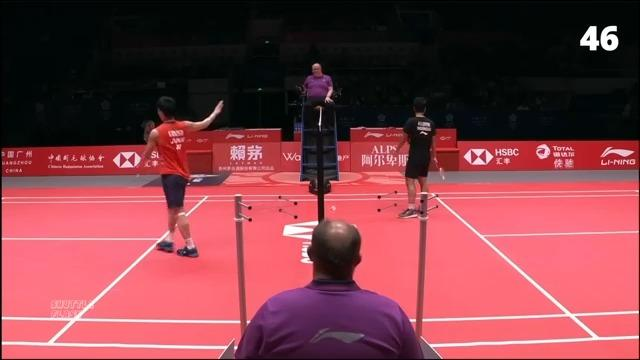Shuttlecock: (328, 202, 338, 212)
